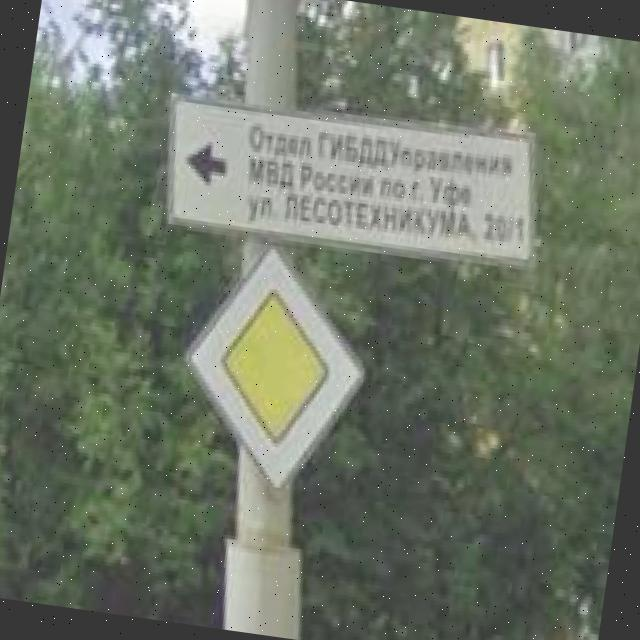Droga z pierwszenstwem: (164, 228, 384, 512)
